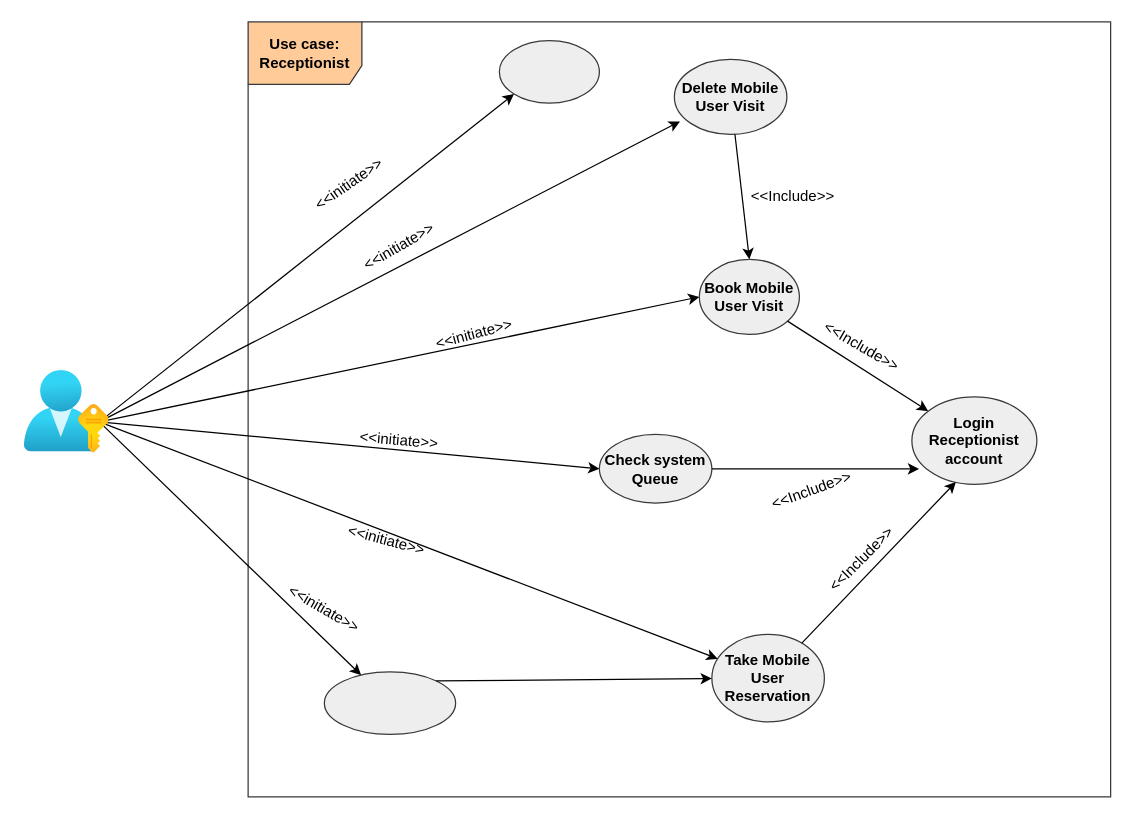
This 1133x819 diagram has some shape labels left out. The box of each missing label's shape, as (x1, y1, x2, y2) in pixels:
Delete Mobile User Reservation: (323, 671, 456, 734)
Receptionist: (24, 370, 109, 452)
Sign up Mobile User: (498, 39, 599, 103)
